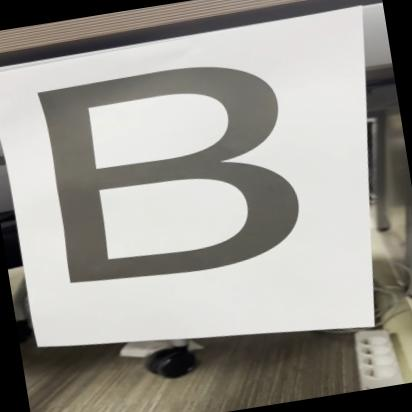seat: (14, 36, 329, 301)
